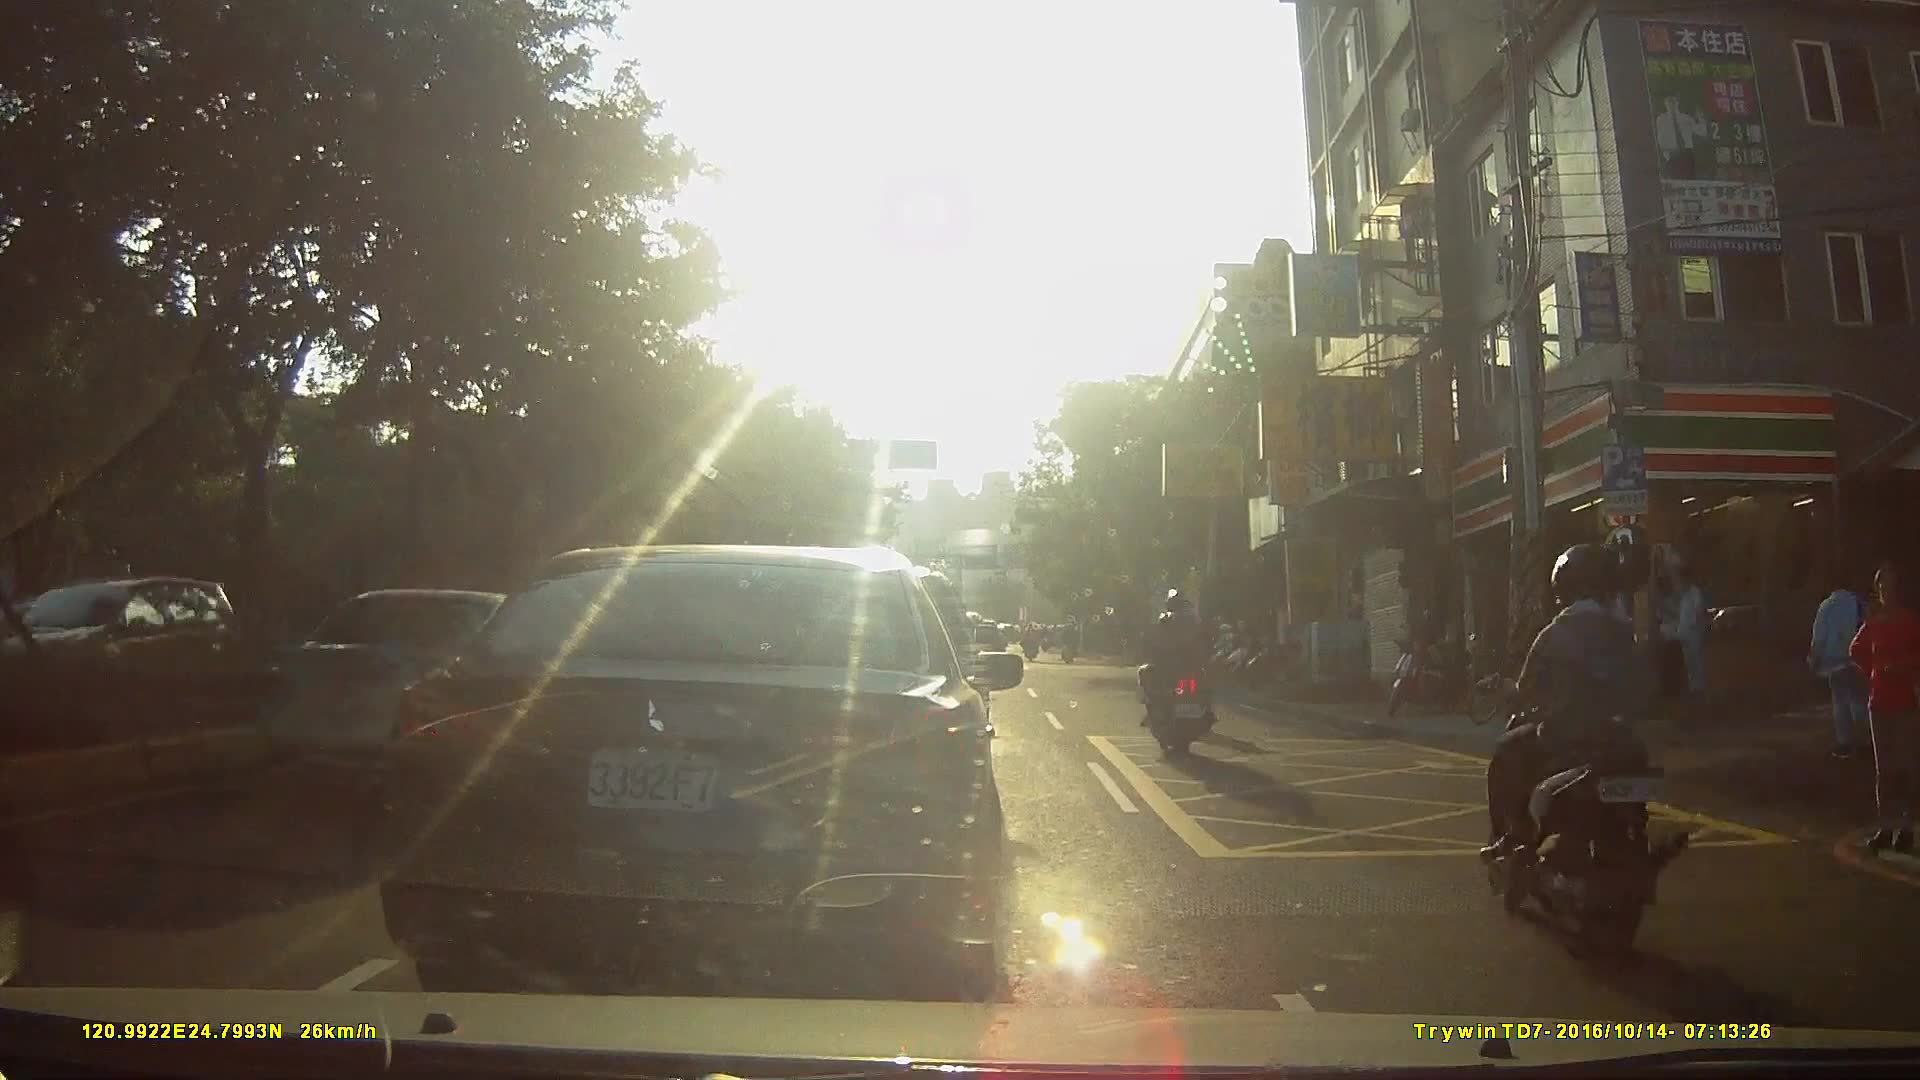pedestrian: (1845, 567, 1920, 854), (1803, 571, 1874, 768), (1557, 579, 1608, 715), (1610, 574, 1655, 708), (1665, 569, 1708, 699), (1652, 569, 1691, 707)
rider: (1480, 543, 1690, 969), (1140, 589, 1219, 760), (1059, 620, 1081, 665), (1022, 619, 1043, 666)
vehicle: (382, 540, 1038, 984), (242, 579, 616, 817), (3, 574, 245, 724)
